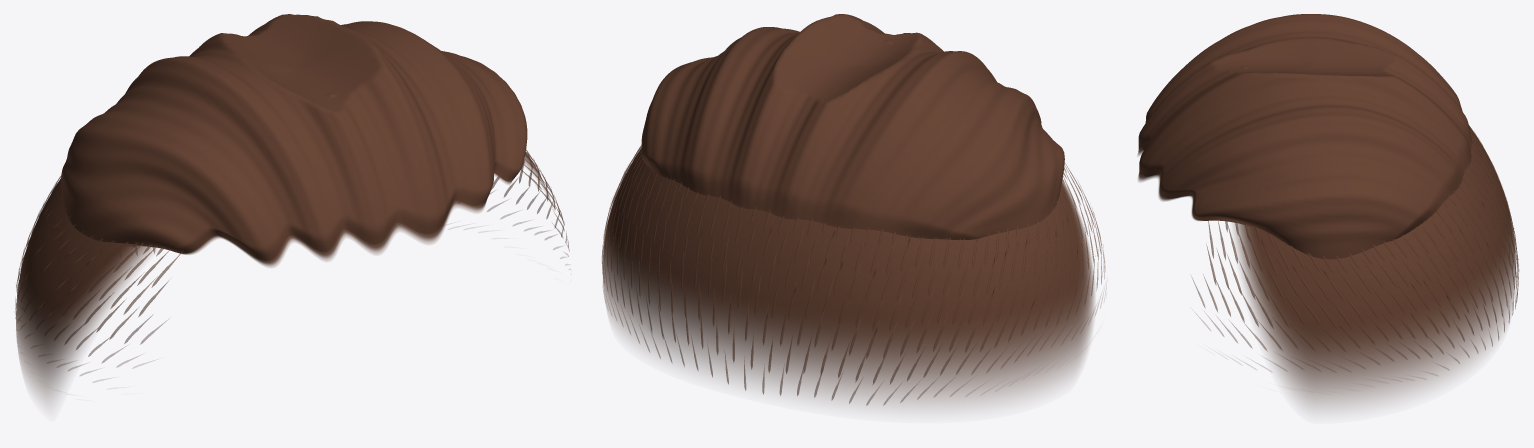
File: Masculine-sidepart-cowboy259-hair.glb
3 views of the same model, side by side, from view 1: azimuth 30°, elevation 25°; view 2: azimuth 150°, elevation 25°; view 3: azimuth 270°, elevation 25° (orthographic). The views are drawn at different scales.
Parts seen in each view (by area): view 1: 226 hair / Hair259 / textured forward Crop, 226 hair / Hair258 / smooth side fade, 226 hair / Hair259 / directional fade marks214; view 2: 226 hair / Hair258 / smooth side fade, 226 hair / Hair259 / textured forward Crop, 226 hair / Hair259 / directional fade marks214; view 3: 226 hair / Hair259 / textured forward Crop, 226 hair / Hair258 / smooth side fade, 226 hair / Hair259 / directional fade marks214.
Part boxes in pixels (x1,y1,x2,y2): 226 hair / Hair259 / textured forward Crop: (61,14,527,267); 226 hair / Hair258 / smooth side fade: (16,64,552,403); 226 hair / Hair259 / directional fade marks214: (15,149,569,382); 226 hair / Hair258 / smooth side fade: (603,64,1094,407); 226 hair / Hair259 / textured forward Crop: (641,14,1064,239); 226 hair / Hair259 / directional fade marks214: (602,145,1106,405); 226 hair / Hair259 / textured forward Crop: (1137,14,1472,259); 226 hair / Hair258 / smooth side fade: (1233,65,1515,409); 226 hair / Hair259 / directional fade marks214: (1192,125,1519,378).
Bounding box in the file's own units: 0.9743 × 0.6227 × 0.7545.
